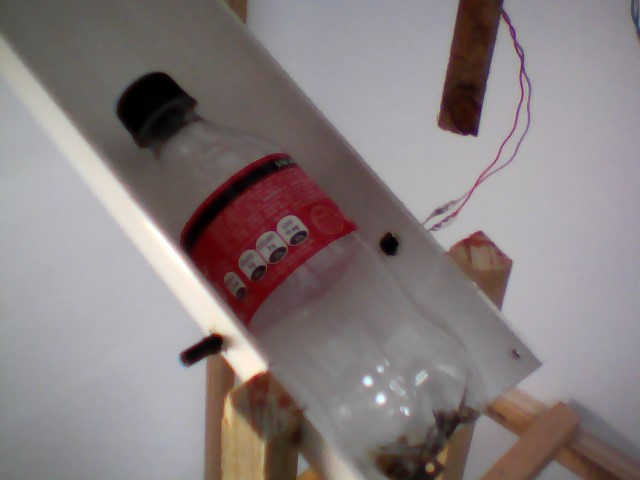plastico: (109, 65, 489, 480)
